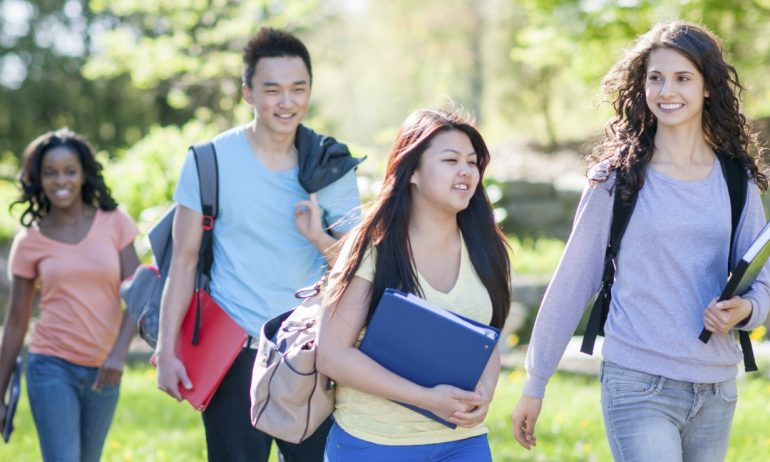Person: (566, 35, 770, 431), (173, 42, 335, 462), (339, 119, 512, 462), (8, 138, 143, 462)
